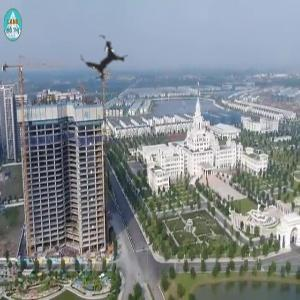drone: (61, 20, 148, 107)
